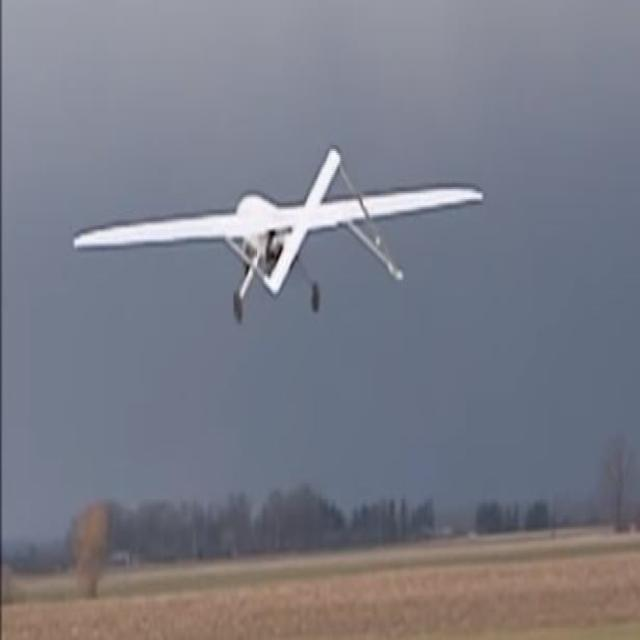iha: (72, 144, 489, 329)
